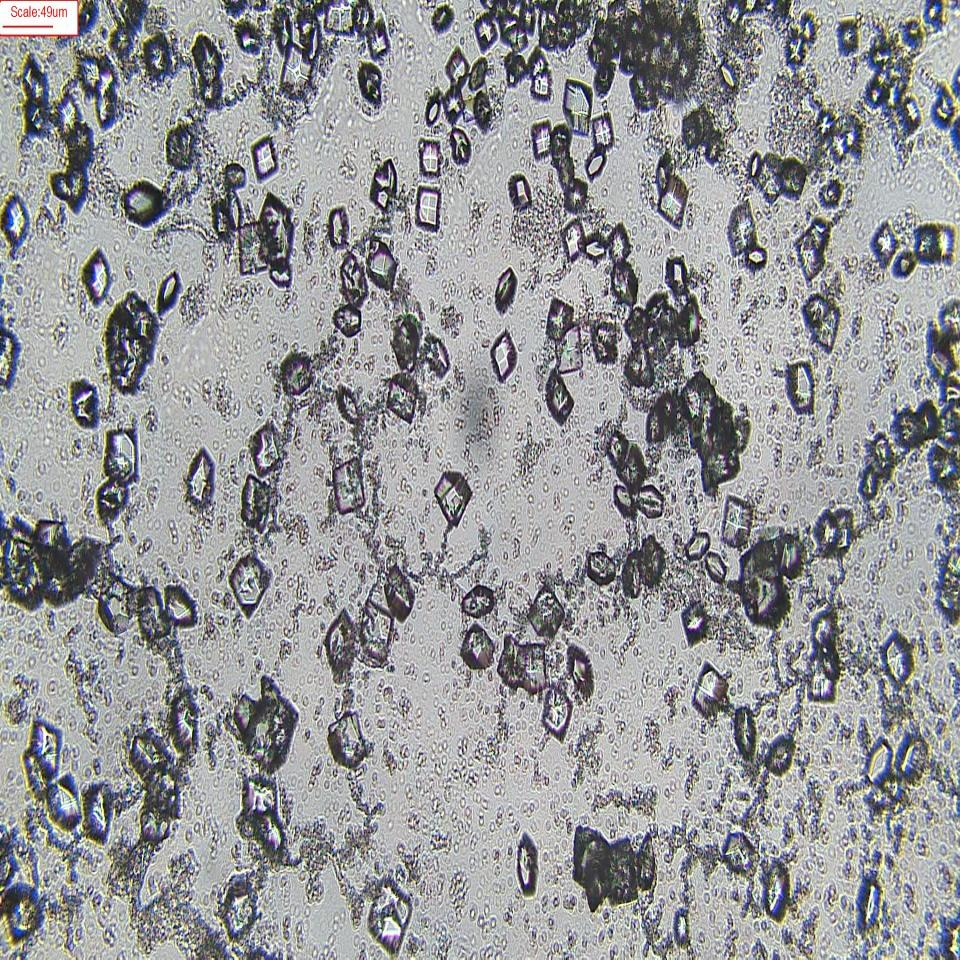crystal: (102, 292, 160, 392), (275, 344, 322, 424), (322, 706, 374, 777), (220, 877, 264, 959), (368, 875, 413, 955), (318, 607, 363, 680), (382, 368, 429, 433), (255, 194, 296, 268), (118, 180, 174, 234), (96, 426, 143, 489), (235, 464, 275, 536), (88, 475, 139, 531), (161, 688, 205, 752), (560, 641, 601, 708), (692, 658, 731, 725), (355, 595, 394, 662), (719, 826, 757, 894), (230, 554, 271, 616), (160, 119, 201, 180), (64, 374, 103, 438), (43, 768, 82, 832), (84, 775, 116, 853), (433, 467, 473, 528), (542, 367, 580, 431), (383, 564, 423, 624), (138, 26, 172, 94), (354, 53, 394, 110), (160, 579, 195, 638), (280, 41, 311, 107), (762, 720, 792, 788), (334, 459, 368, 518), (540, 686, 575, 743), (561, 75, 593, 136), (763, 852, 788, 930), (731, 703, 758, 775), (721, 494, 755, 551), (878, 629, 912, 686), (460, 620, 498, 671), (1, 188, 33, 248), (784, 354, 814, 415), (185, 450, 216, 509), (367, 240, 401, 293), (82, 245, 113, 303), (578, 541, 617, 587), (248, 420, 280, 474), (637, 831, 664, 895), (661, 244, 690, 303), (606, 257, 642, 304), (491, 270, 524, 320), (331, 298, 366, 344), (726, 199, 755, 254), (866, 432, 896, 485), (544, 289, 574, 341), (414, 181, 442, 236), (491, 329, 520, 381), (154, 266, 180, 324), (856, 875, 881, 933), (458, 585, 496, 623), (516, 832, 538, 897), (249, 134, 277, 184), (334, 379, 359, 435), (338, 254, 368, 300), (834, 11, 860, 63), (447, 125, 474, 175), (671, 907, 698, 957), (662, 176, 688, 227), (864, 736, 890, 786), (870, 219, 897, 265), (442, 35, 466, 86), (700, 545, 730, 584), (817, 171, 847, 210), (683, 599, 708, 645), (418, 139, 446, 180), (890, 242, 916, 284), (328, 203, 351, 250), (563, 220, 587, 264), (508, 172, 533, 213), (427, 0, 454, 36), (474, 9, 496, 53), (605, 223, 633, 257), (530, 116, 553, 157), (583, 145, 607, 184), (716, 58, 742, 94), (444, 82, 464, 125), (221, 163, 254, 189), (596, 110, 617, 150), (860, 462, 880, 502), (586, 232, 610, 264), (686, 528, 712, 554), (470, 53, 488, 90), (426, 91, 442, 131), (745, 245, 769, 269), (748, 150, 760, 180)
not_crystal: (228, 679, 296, 770), (129, 730, 180, 844), (804, 610, 844, 708), (624, 313, 674, 391), (18, 715, 63, 793), (498, 633, 551, 696), (191, 34, 229, 108), (56, 96, 96, 166), (81, 57, 121, 126), (625, 540, 663, 604), (802, 291, 838, 349), (816, 501, 853, 556)
